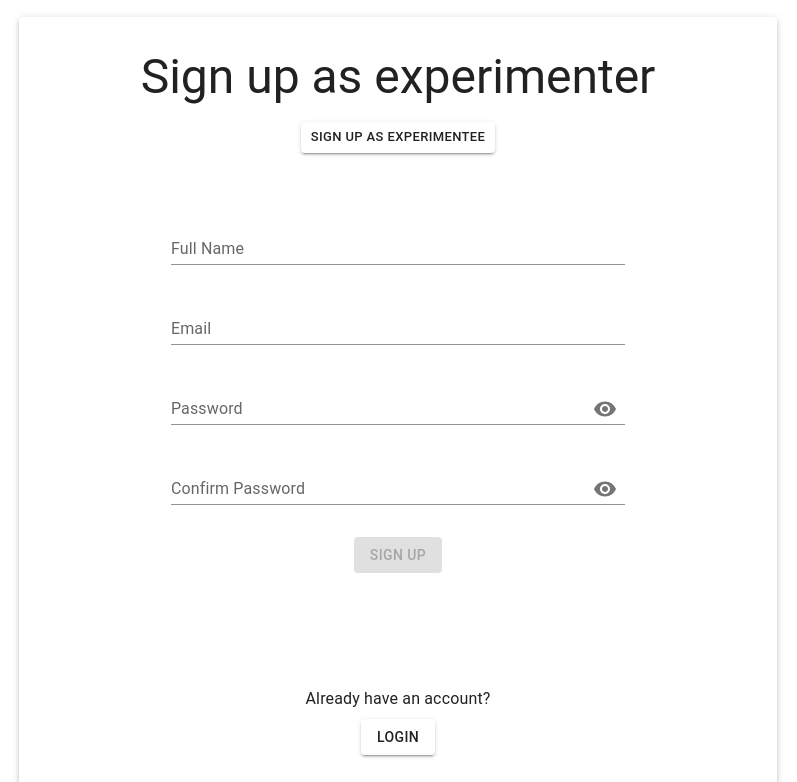
Scenario: SignUp Page › Show account already exists when sign up with same email
Type "Test User" into the field labelled "Full Name" at (398, 249), box [171,233,625,265]
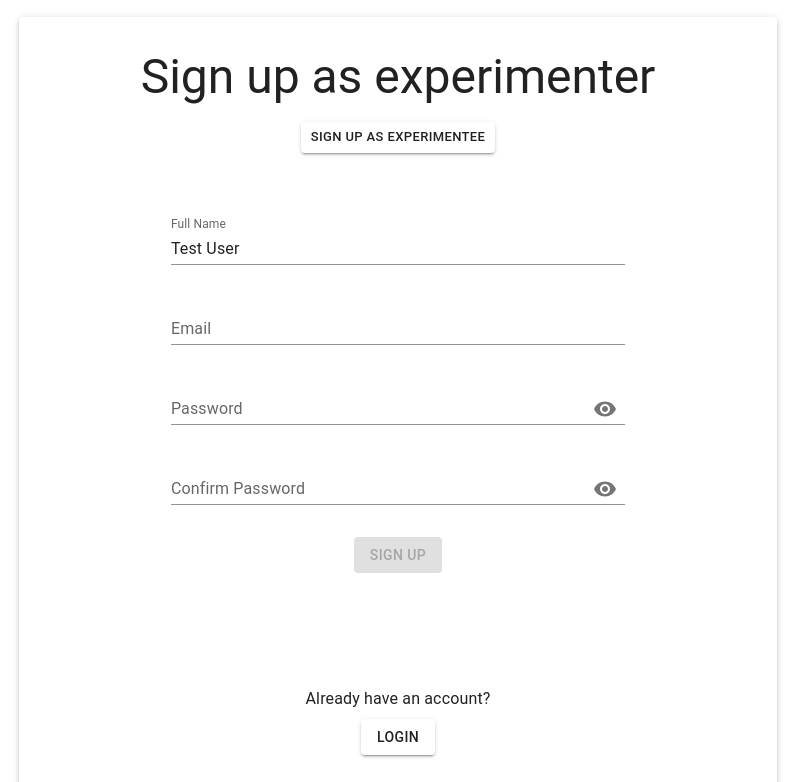
Type "test@gmail.com" into the field labelled "Email" at (398, 329), box [171,313,625,345]
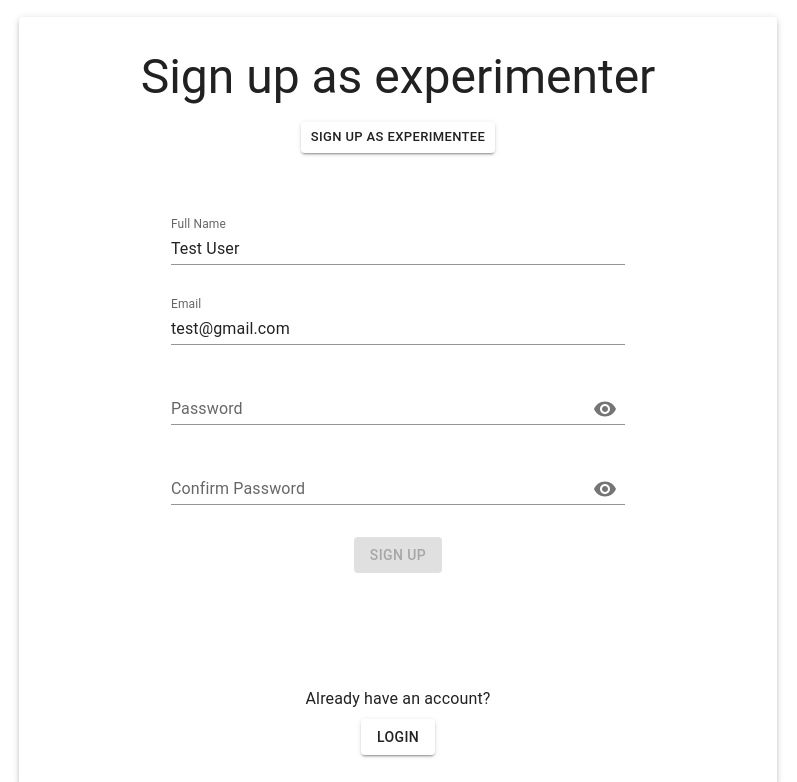
Type "Password123!" into the password field labelled "Password" at (374, 409), box [171,393,577,425]
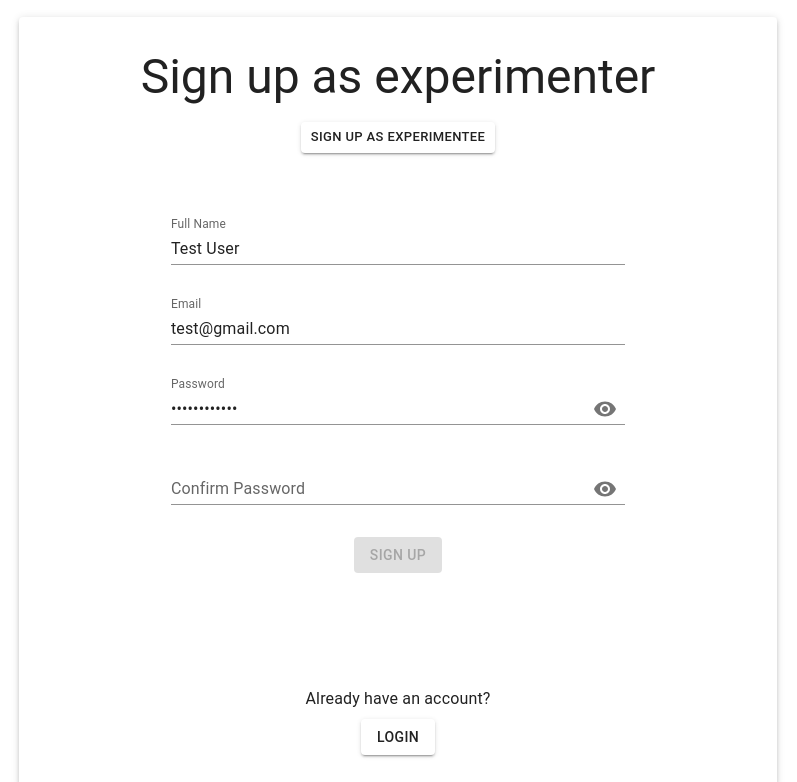
Type "Password123!" into the password field labelled "Confirm Password" at (374, 489), box [171,473,577,505]
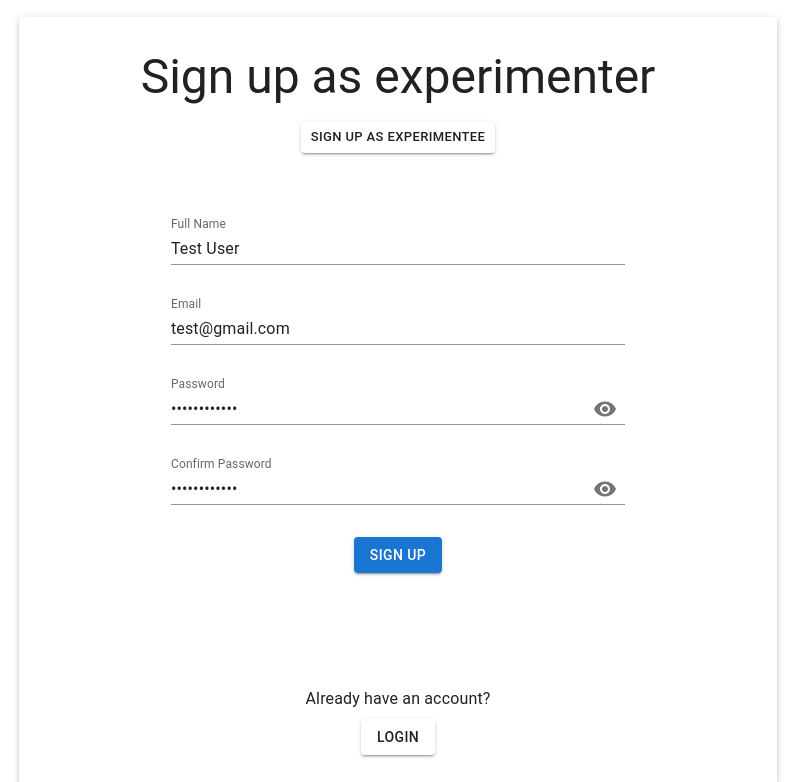
Click the button "Sign Up" at (398, 555), box [354,537,442,573]
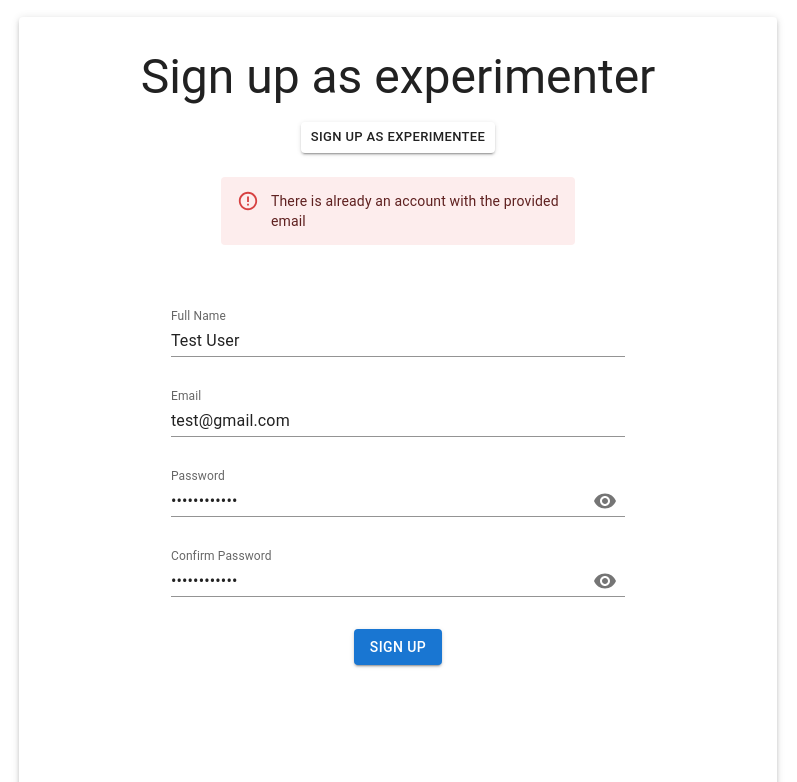
Now the text "There is already an account with the provided email" is shown, box [271,183,559,239]
